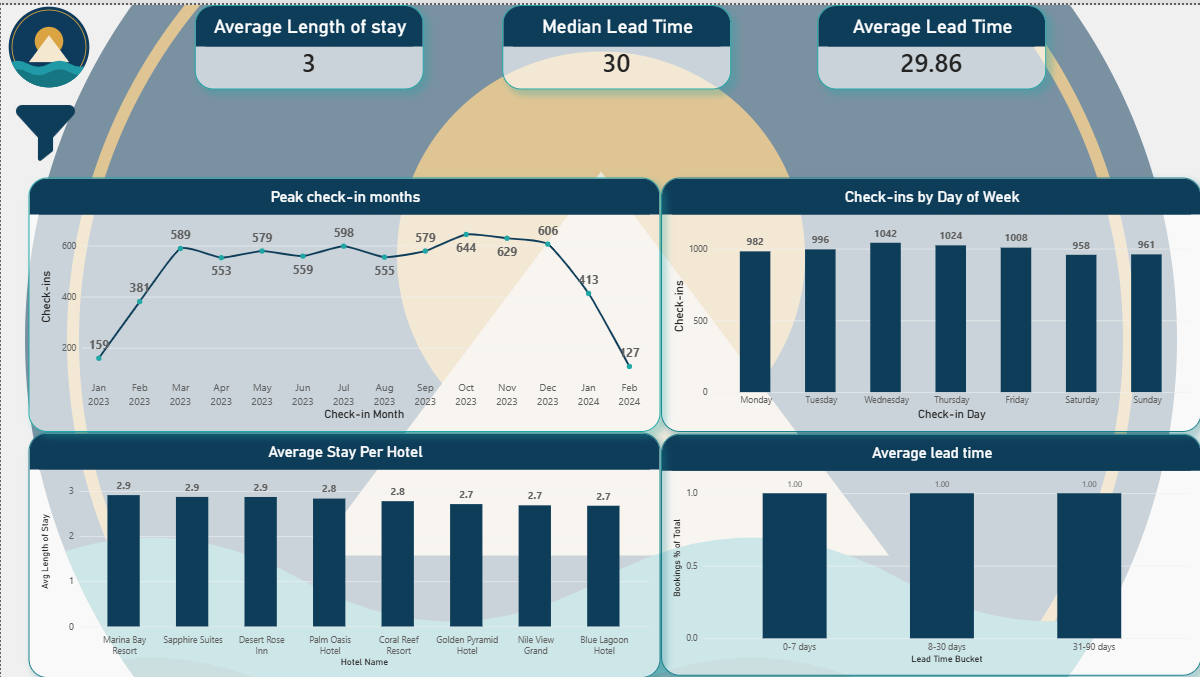

Layout of this report page (visuals, bound fields, positions):
{"tool":"powerbi","page":{"name":"Booking behavior","canvas":[1920,1080],"ordinal":6},"visuals":[{"type":"image","box":[0,0,153,134.3],"z":0},{"type":"card","title":"Average Lead Time","fields":{"Values":["Measures Table.Avg Lead Time"]},"box":[1305.8,0,366,135.3],"z":1000},{"type":"card","title":"Median Lead Time","fields":{"Values":["Measures Table.Median Lead Time"]},"box":[802.4,0,366,135.3],"z":2000},{"type":"clusteredColumnChart","title":"Average lead time","fields":{"Category":["fact_bookings.Lead Time Bucket"],"Y":["Measures Table.Bookings % of Total"]},"box":[1055.1,686,864.5,387.1],"z":3000},{"type":"card","title":"Average Length of stay ","fields":{"Values":["Measures Table.Avg Length of Stay"]},"box":[310.9,0,366,135.3],"z":4000},{"type":"clusteredColumnChart","title":"Average Stay Per Hotel","fields":{"Category":["dim_hotel.hotel_name"],"Y":["Measures Table.Avg Length of Stay"]},"box":[44.1,684,1011,393.2],"z":5000},{"type":"clusteredColumnChart","title":"Check-ins by Day of Week","fields":{"Category":["fact_bookings.Check-in Day"],"Y":["Measures Table.Check-ins"]},"box":[1055.1,276.8,864.5,407.2],"z":6000},{"type":"lineChart","title":"Peak check-in months","fields":{"Category":["fact_bookings.Check-in Month"],"Y":["Measures Table.Check-ins"]},"box":[44.1,276.8,1011,407.2],"z":7000},{"type":"image","title":"Filter Button 5","box":[0,146.4,142.4,112.3],"z":8000}]}

Visuals, with their boxes in screenshot pixels (x1, y1, x2, y2), scaled from the page's 1920x1080 canvas onto the 1200x677 screenshot:
image: <bbox>0, 0, 96, 84</bbox>
"Average Lead Time" card: <bbox>816, 0, 1045, 85</bbox>
"Median Lead Time" card: <bbox>502, 0, 730, 85</bbox>
"Average lead time" clusteredColumnChart: <bbox>659, 430, 1199, 673</bbox>
"Average Length of stay " card: <bbox>194, 0, 423, 85</bbox>
"Average Stay Per Hotel" clusteredColumnChart: <bbox>28, 429, 659, 675</bbox>
"Check-ins by Day of Week" clusteredColumnChart: <bbox>659, 174, 1199, 429</bbox>
"Peak check-in months" lineChart: <bbox>28, 174, 659, 429</bbox>
"Filter Button 5" image: <bbox>0, 92, 89, 162</bbox>
